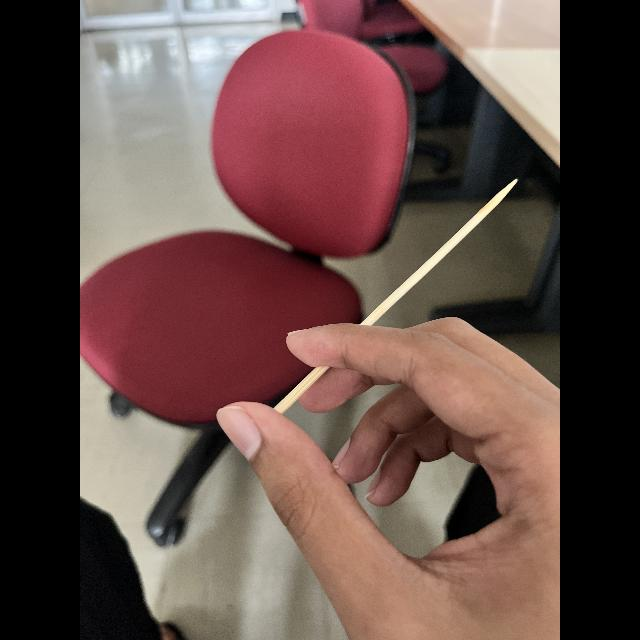stick: (269, 172, 521, 414)
